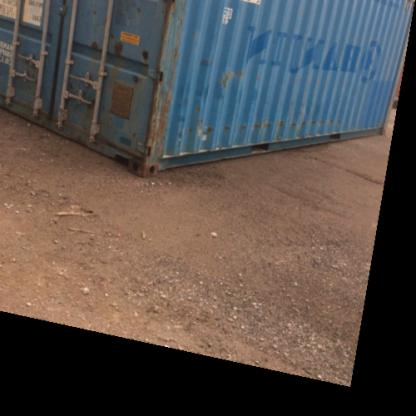Damage: (186, 111, 352, 136), (145, 90, 171, 155), (162, 5, 184, 80), (216, 68, 254, 90), (86, 98, 104, 144), (136, 44, 160, 75), (104, 34, 128, 56), (127, 68, 144, 88), (86, 35, 100, 52)
